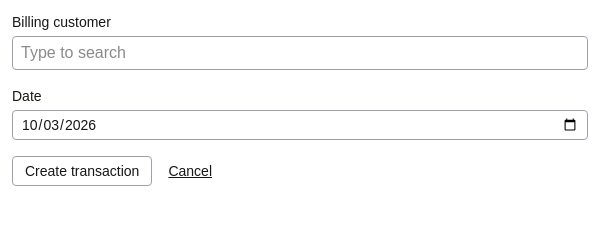
creating a transaction › a customer the backend refuses (inactive since the list loaded) shows on the picker and keeps the form
Click the dropdown at (300, 53), box [12, 36, 588, 70]
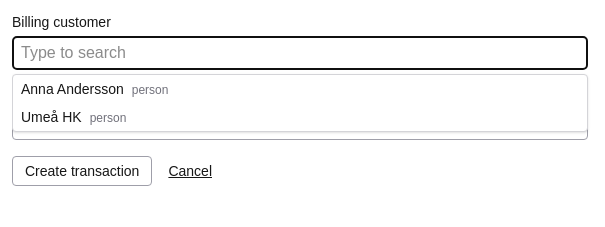
Click the option "Anna" at (95, 89), box [21, 81, 168, 97]
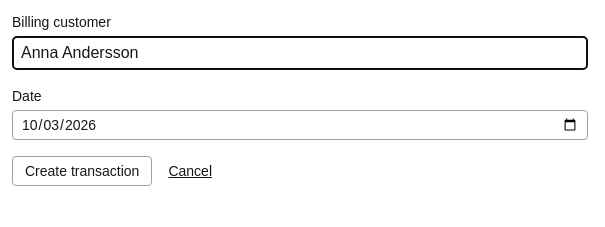
Type "2026-11-11" into the date field labelled "Date" at (300, 125), box [12, 110, 588, 140]
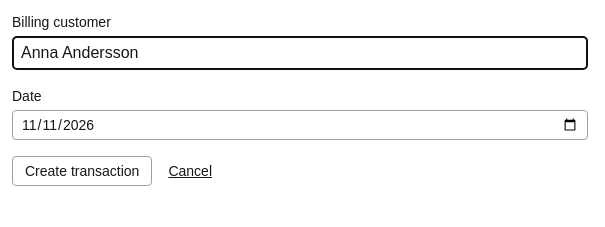
Click the button with test id "submit" at (82, 171), box [12, 156, 152, 186]
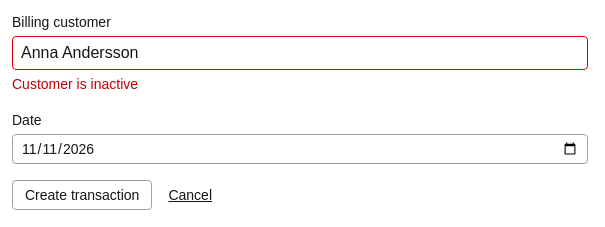
Expected: the dropdown holds "Anna Andersson", [12, 36, 588, 70]
Expected: the text with test id "error-billing_customer_id" reads "Customer is inactive", [12, 76, 138, 92]
